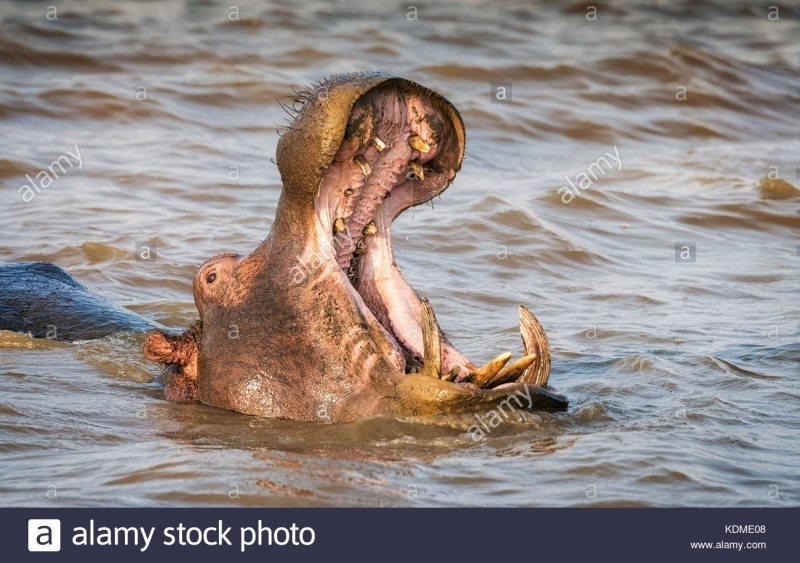hipopotamo: (167, 67, 565, 429)
